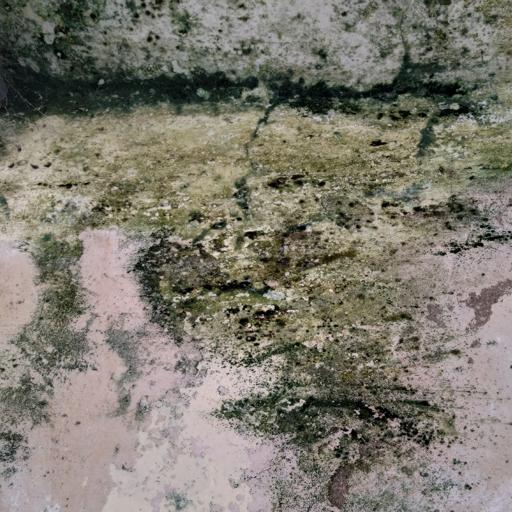algae: (6, 5, 488, 471)
